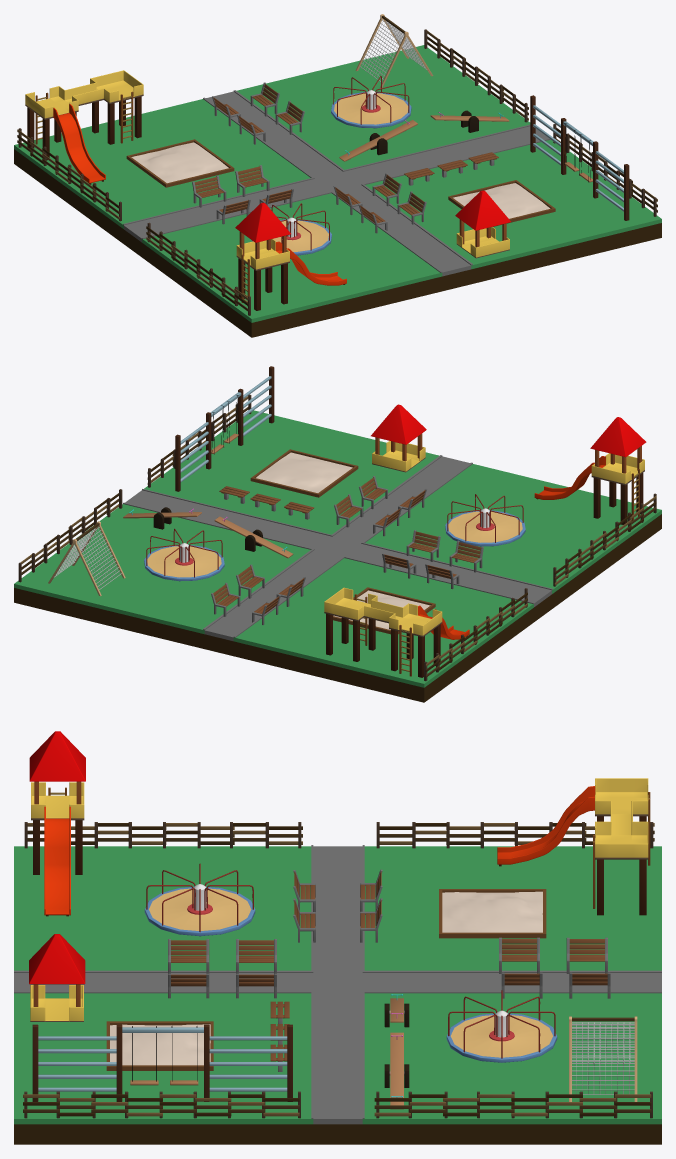
The model's file is park.fbx.
3 views of the same model, one above another, from view 1: azimuth 30°, elevation 25°; view 2: azimuth 150°, elevation 25°; view 3: azimuth 270°, elevation 25° (orthographic). The views are drawn at different scales.
Parts seen in each view (by area): view 1: Cubo.106, Cubo.111, Cubo.109, Cubo.327, Cubo.222, Círculo.001, Cubo.380, Cubo.354, Plano.002, Cubo.116, Círculo.002, Cubo.183 (+17 smaller); view 2: Cubo.106, Cubo.380, Cubo.109, Cubo.327, Cubo.222, Círculo.001, Círculo.002, Cubo.354, Cubo.116, Cubo.118, Cubo.379, Cubo.183 (+17 smaller); view 3: Cubo.106, Cubo.222, Cubo.109, Cubo.111, Cubo.380, Círculo.001, Cubo.327, Círculo.002, Cubo.116, Plano.003, Cubo.183, Cubo.379 (+19 smaller).
Boxes of the visible parts, x1,y1,x2,y2 form: Cubo.106: (14,45,661,337); Cubo.111: (126,139,234,187); Cubo.109: (17,128,250,315); Cubo.327: (25,70,143,119); Cubo.222: (424,29,657,216); Círculo.001: (331,90,411,128); Cubo.380: (448,180,555,226); Cubo.354: (27,96,141,160); Plano.002: (53,104,105,183); Cubo.116: (533,105,623,211); Círculo.002: (251,217,331,255); Cubo.183: (455,190,510,230); Cubo.106: (14,410,661,702); Cubo.380: (250,449,358,497); Cubo.109: (424,493,656,681); Cubo.327: (324,587,442,637); Cubo.222: (18,394,251,582); Círculo.001: (144,543,224,581); Círculo.002: (445,508,525,546); Cubo.354: (326,613,440,677); Cubo.116: (180,376,271,482); Cubo.118: (175,366,274,491); Cubo.379: (590,417,646,457); Cubo.183: (371,404,426,444); Cubo.106: (14,845,661,1144); Cubo.222: (23,1091,652,1118); Cubo.109: (24,822,654,848); Cubo.111: (439,889,546,938); Cubo.380: (106,1021,213,1070); Círculo.001: (446,1010,557,1062); Cubo.327: (595,778,648,859); Círculo.002: (144,884,255,936); Cubo.116: (38,1027,287,1091); Plano.003: (44,806,70,915); Cubo.183: (29,934,85,984); Cubo.379: (29,731,85,781).
Bounding box in the file's own units: 45.58 × 12.31 × 45.75.
